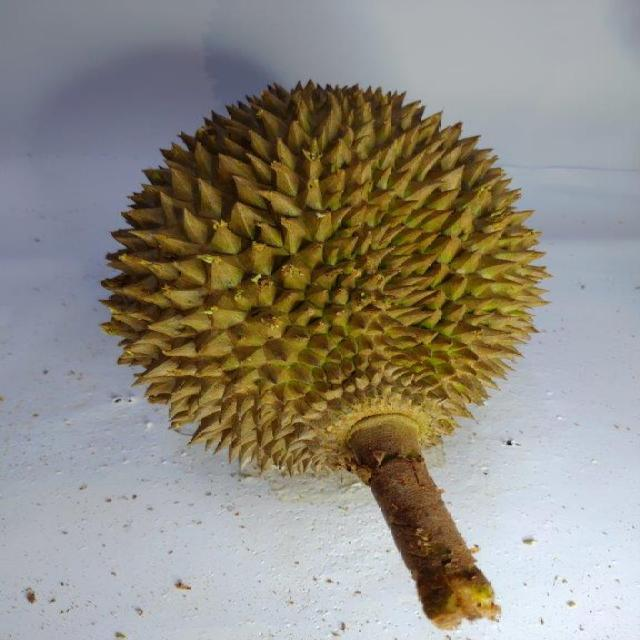mature: (103, 73, 555, 479)
